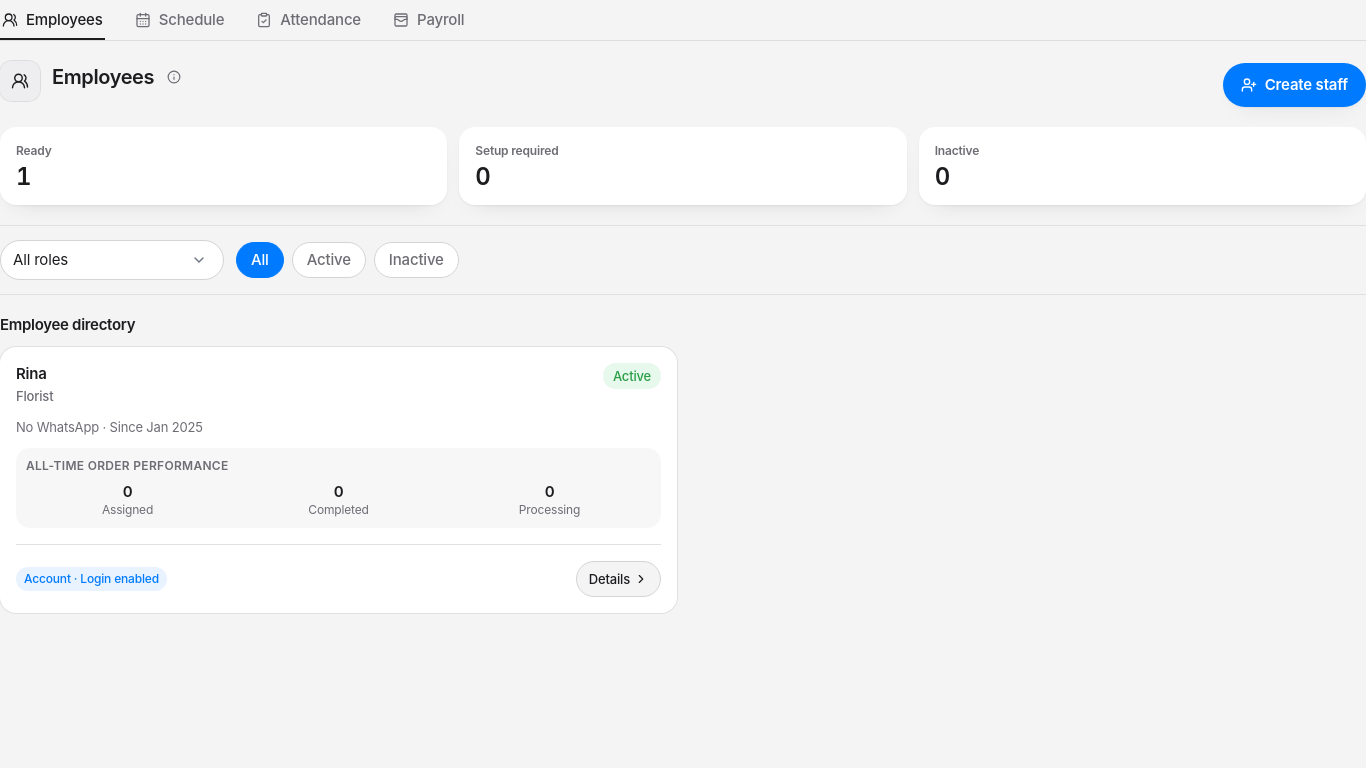
Test case: employee details UI › shows field validation beside invalid profile fields
Click the button "Details": (618, 579) left=576, top=561, right=661, bottom=597
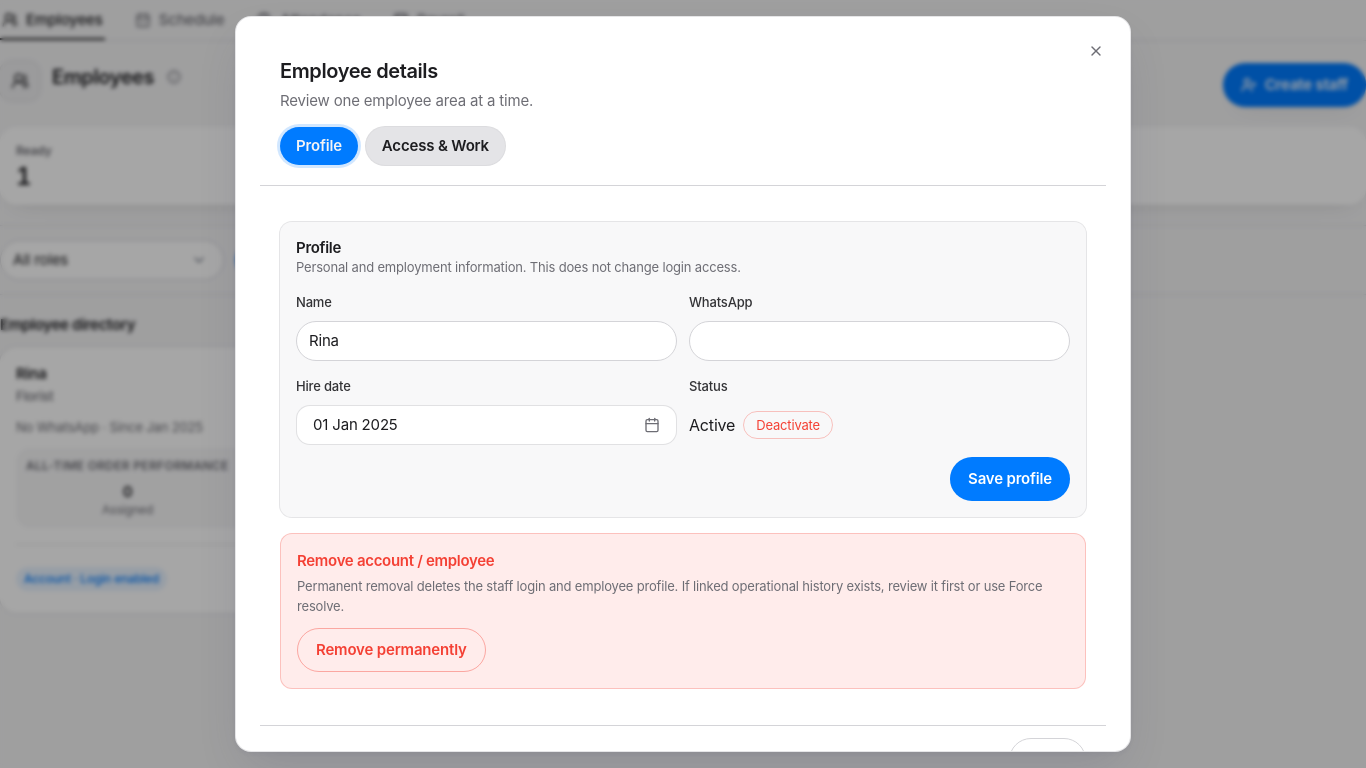
Clear the field labelled "Name": (486, 341) left=296, top=321, right=677, bottom=361
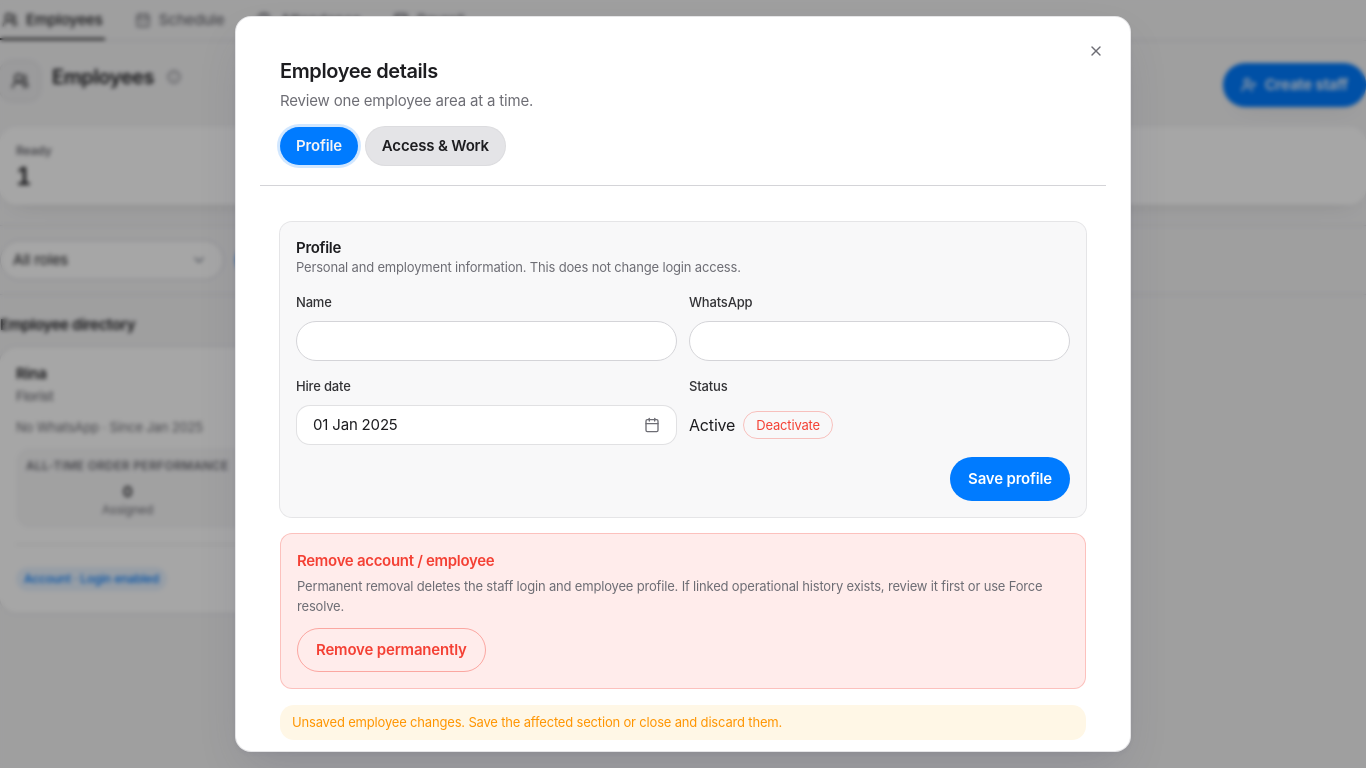
Click the button "Save profile": (1010, 479) left=950, top=457, right=1070, bottom=501
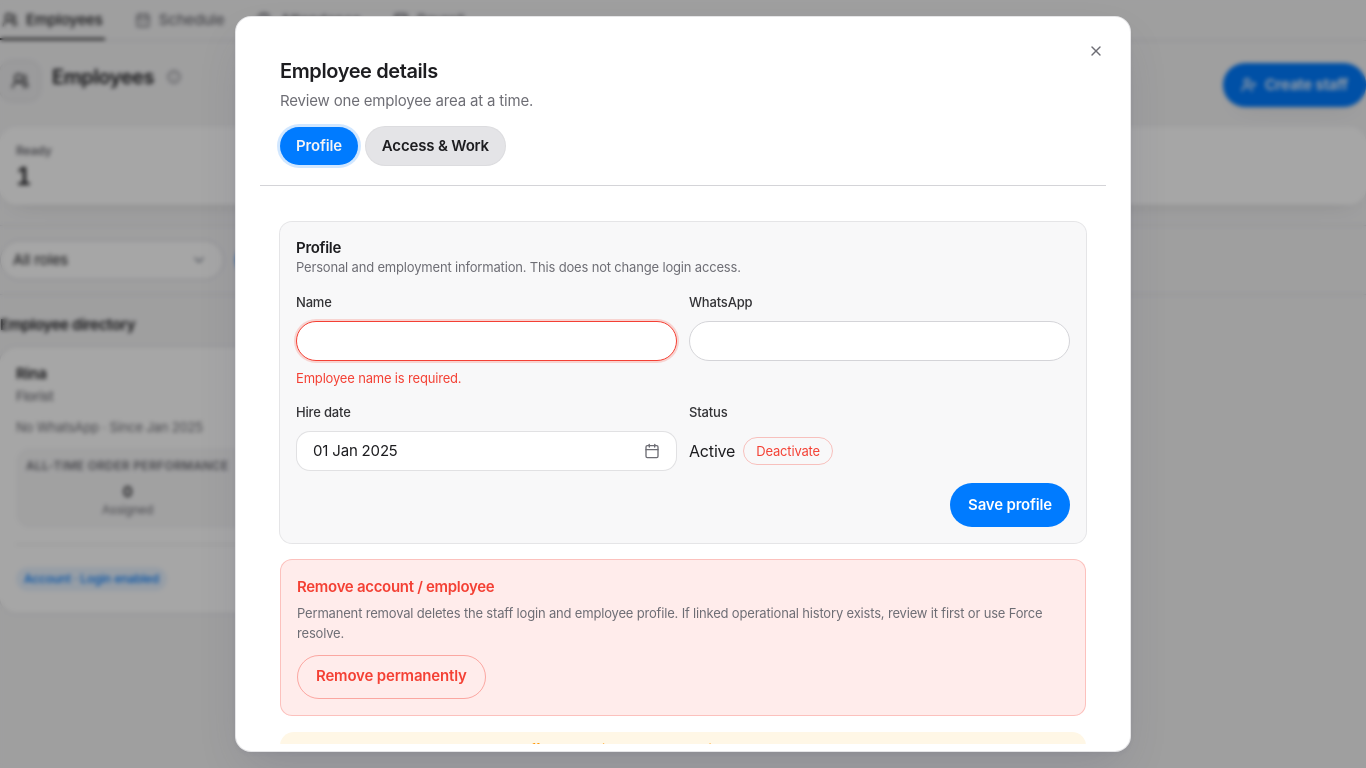
Expected: the text "Employee name is required." is shown, left=296, top=370, right=461, bottom=386
